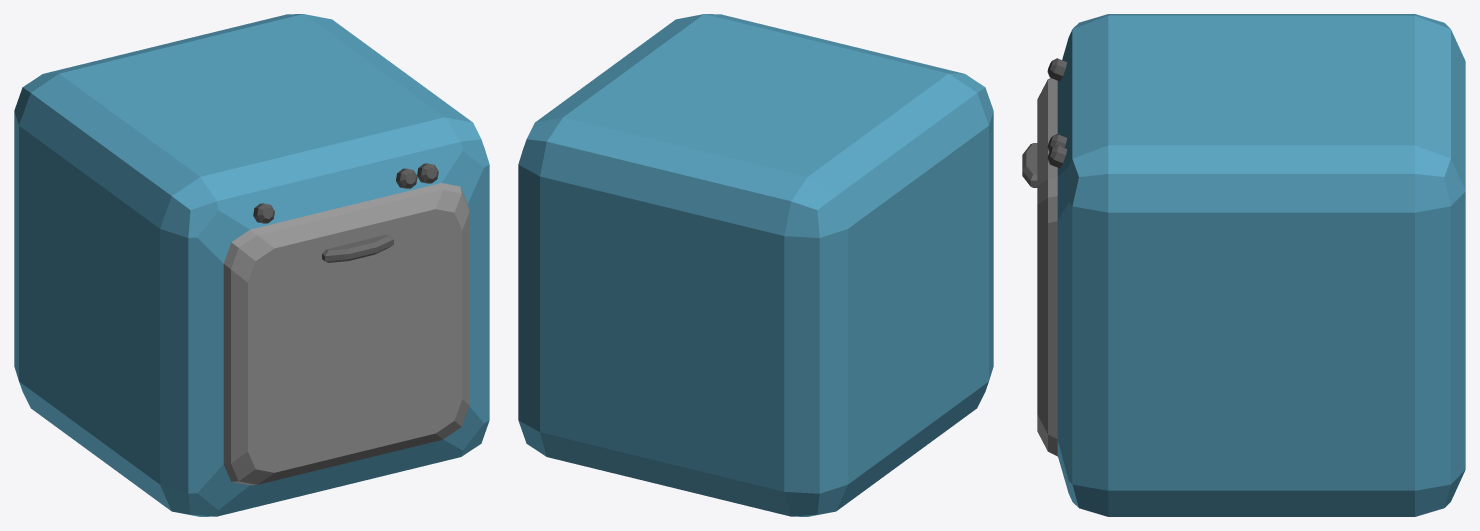
Rendered from Dishwasher.fbx.
3 renders of one model, left to right at view 1: azimuth 30°, elevation 25°; view 2: azimuth 150°, elevation 25°; view 3: azimuth 270°, elevation 25°, orthographic. The views are drawn at different scales.
Parts seen in each view (by area): view 1: Dishwasher; view 2: Dishwasher; view 3: Dishwasher.
Part boxes in pixels (box(x1,y1,x2,y2)): Dishwasher: box(14, 14, 489, 516); Dishwasher: box(518, 14, 993, 516); Dishwasher: box(1022, 14, 1465, 516).
Size of the model in its own units: 0.7287 by 0.7287 by 0.7919.
Materials: 1 (1 with a texture image).
